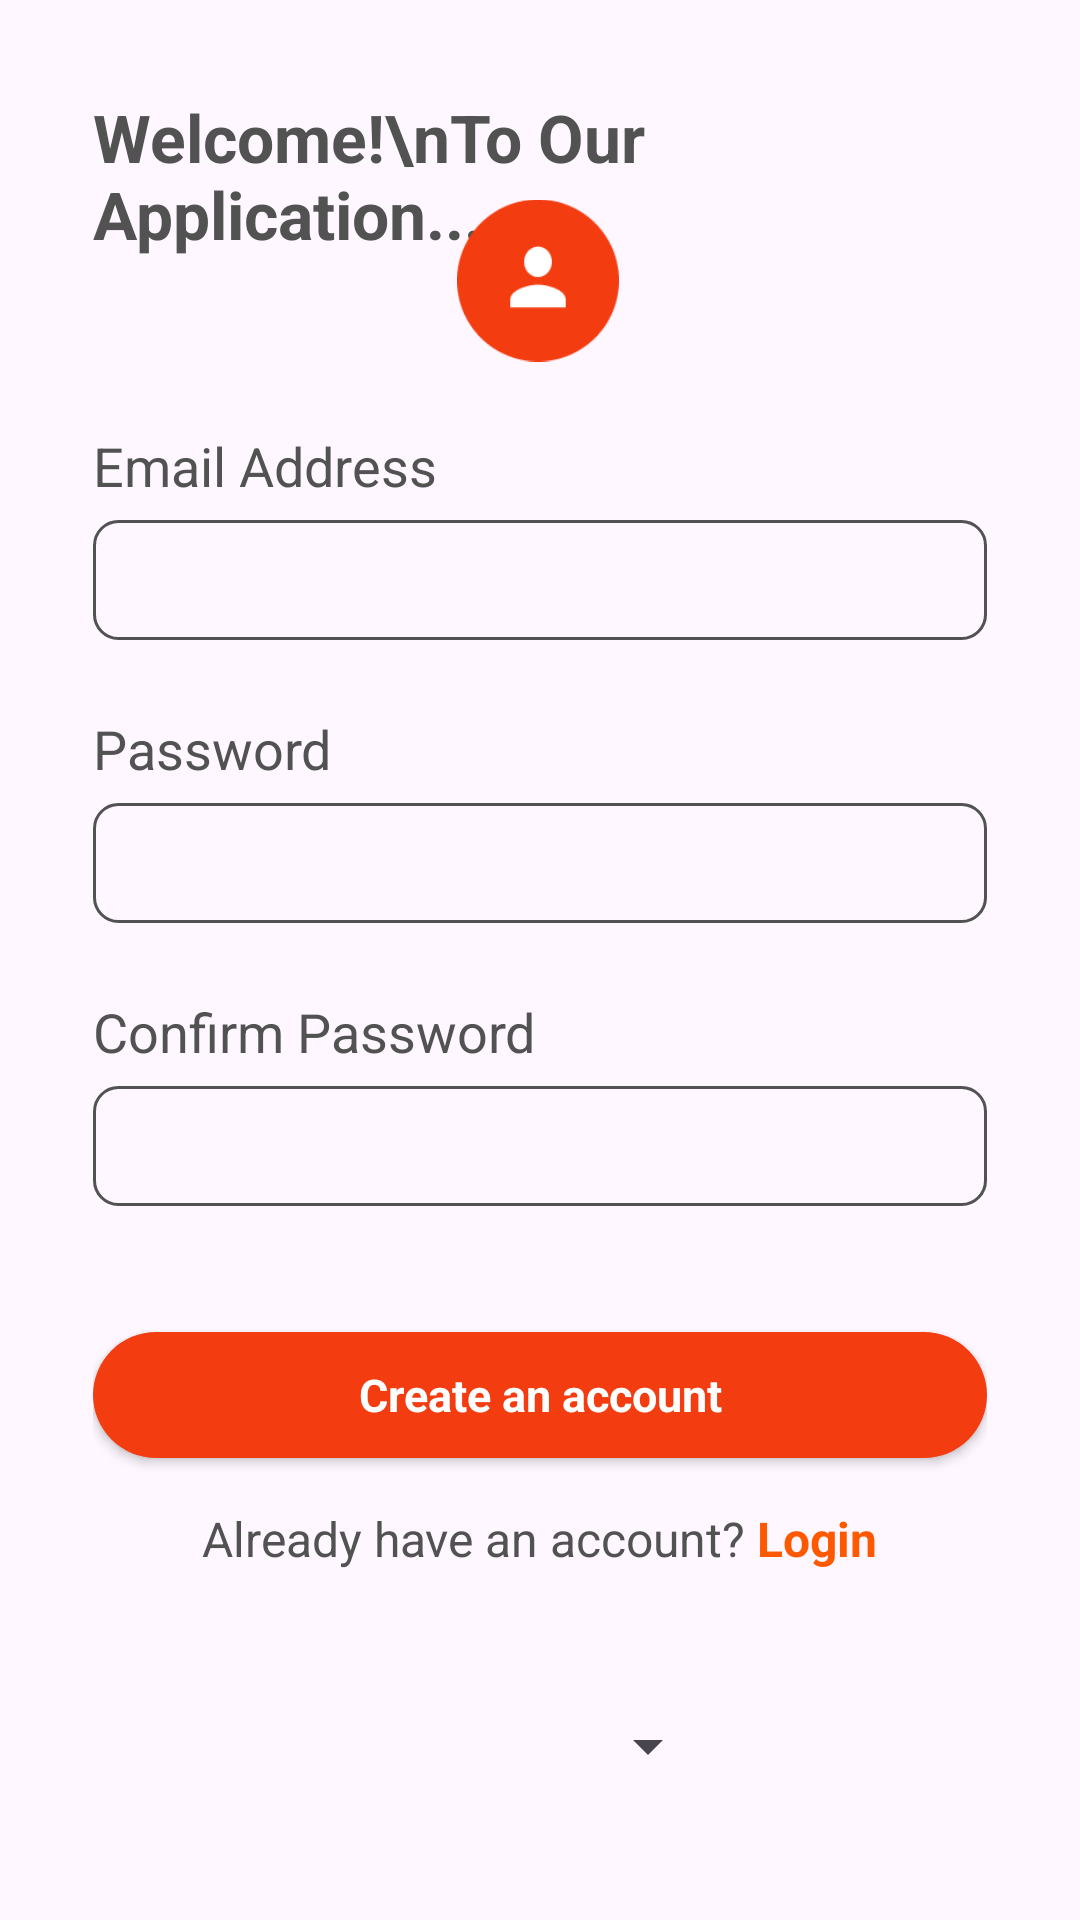

Named icons in this screenshot (1080 × 1920) and their bounding boxes, box=[x1, y1, x2, y2]:
user: box=[457, 200, 619, 362]
